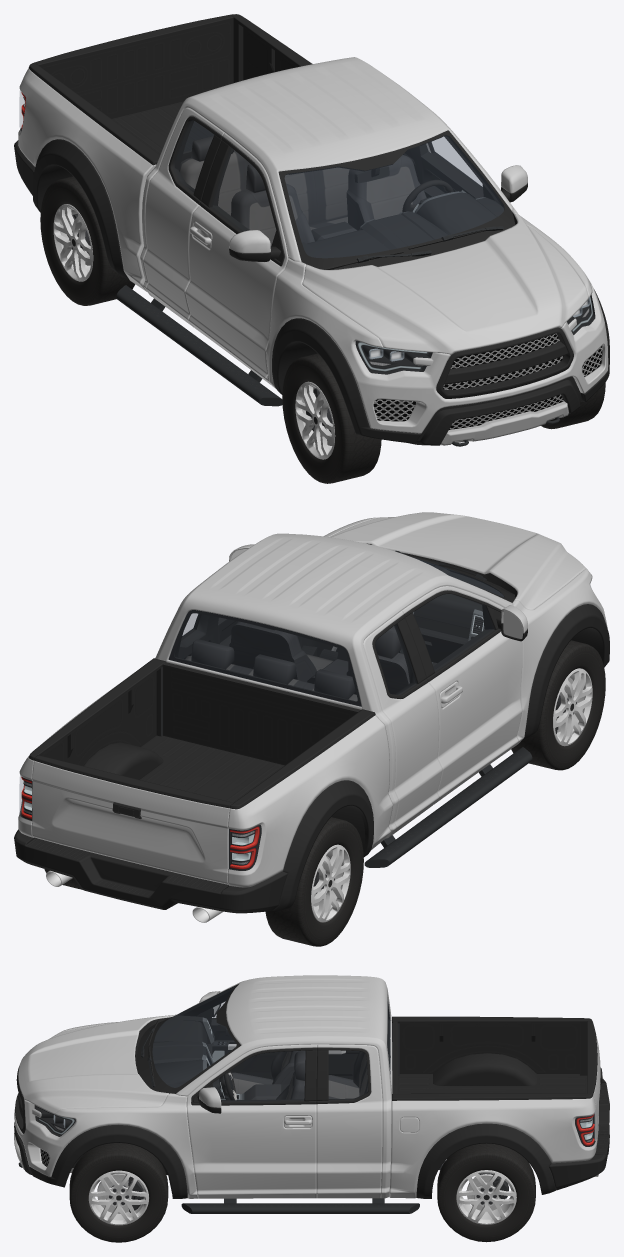
Rendered from RealisticCar04_HD_LOD0.FBX.
3 renders of one model, top to bottom at view 1: azimuth 30°, elevation 25°; view 2: azimuth 150°, elevation 25°; view 3: azimuth 270°, elevation 25°, orthographic. The views are drawn at different scales.
Visible parts, largest first — view 1: Car04_Body_LOD0, Car04_Interior_LOD0, Car04_Glass_LOD0, Car04_Door_Front_Right_LOD0, Car04_Door_Back_LOD0, Car04_Door_Rear_Right_LOD0, Wheel_Front_Right_LOD0, Wheel_Rear_Right_LOD0, Car04_Door_Front_Left_LOD0, Wheel_Front_Left_LOD0; view 2: Car04_Body_LOD0, Car04_Door_Back_LOD0, Car04_Door_Front_Right_LOD0, Car04_Interior_LOD0, Car04_Glass_LOD0, Car04_Door_Rear_Right_LOD0, Wheel_Rear_Right_LOD0, Wheel_Front_Right_LOD0, Car04_Door_Rear_Left_LOD0, Car04_Door_Front_Left_LOD0; view 3: Car04_Body_LOD0, Car04_Door_Front_Left_LOD0, Car04_Door_Rear_Left_LOD0, Car04_Interior_LOD0, Wheel_Front_Left_LOD0, Wheel_Rear_Left_LOD0, Car04_Glass_LOD0, Car04_Door_Front_Right_LOD0, Car04_Door_Back_LOD0, Car04_Door_Rear_Right_LOD0, Car04_BrakeDisc_Front_Left_LOD0, Car04_Interior_SteeringWheel_LOD0.
Part boxes in pixels (x1,y1,x2,y2): Car04_Body_LOD0: [14, 14, 609, 446]; Car04_Interior_LOD0: [174, 120, 504, 258]; Car04_Glass_LOD0: [19, 90, 504, 257]; Car04_Door_Front_Right_LOD0: [185, 133, 288, 384]; Car04_Door_Back_LOD0: [34, 14, 233, 118]; Car04_Door_Rear_Right_LOD0: [143, 107, 232, 327]; Wheel_Front_Right_LOD0: [282, 353, 381, 483]; Wheel_Rear_Right_LOD0: [40, 176, 135, 305]; Car04_Door_Front_Left_LOD0: [420, 141, 527, 215]; Wheel_Front_Left_LOD0: [541, 382, 605, 429]; Car04_Body_LOD0: [14, 512, 609, 922]; Car04_Door_Back_LOD0: [31, 755, 233, 884]; Car04_Door_Front_Right_LOD0: [402, 586, 527, 804]; Car04_Interior_LOD0: [174, 563, 504, 701]; Car04_Glass_LOD0: [19, 557, 503, 815]; Car04_Door_Rear_Right_LOD0: [363, 610, 442, 835]; Wheel_Rear_Right_LOD0: [265, 817, 363, 946]; Wheel_Front_Right_LOD0: [511, 640, 605, 770]; Car04_Door_Rear_Left_LOD0: [178, 613, 218, 659]; Car04_Door_Front_Left_LOD0: [217, 544, 254, 646]; Car04_Body_LOD0: [14, 975, 609, 1213]; Car04_Door_Front_Left_LOD0: [186, 1044, 317, 1198]; Car04_Door_Rear_Left_LOD0: [316, 1044, 382, 1198]; Car04_Interior_LOD0: [152, 985, 390, 1100]; Wheel_Front_Left_LOD0: [69, 1143, 168, 1242]; Wheel_Rear_Left_LOD0: [437, 1143, 535, 1242]; Car04_Glass_LOD0: [152, 986, 390, 1087]; Car04_Door_Front_Right_LOD0: [196, 991, 278, 1079]; Car04_Door_Back_LOD0: [587, 1021, 602, 1150]; Car04_Door_Rear_Right_LOD0: [328, 1050, 359, 1079]; Car04_BrakeDisc_Front_Left_LOD0: [97, 1174, 131, 1213]; Car04_Interior_SteeringWheel_LOD0: [219, 1070, 236, 1100].
Bounding box in the file's own units: 2.55 × 5.87 × 2.09.
